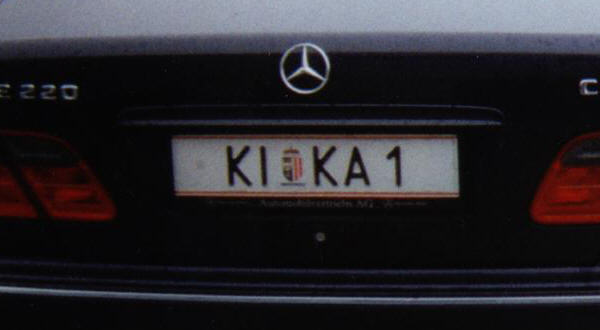license_plate: (172, 132, 463, 200)
